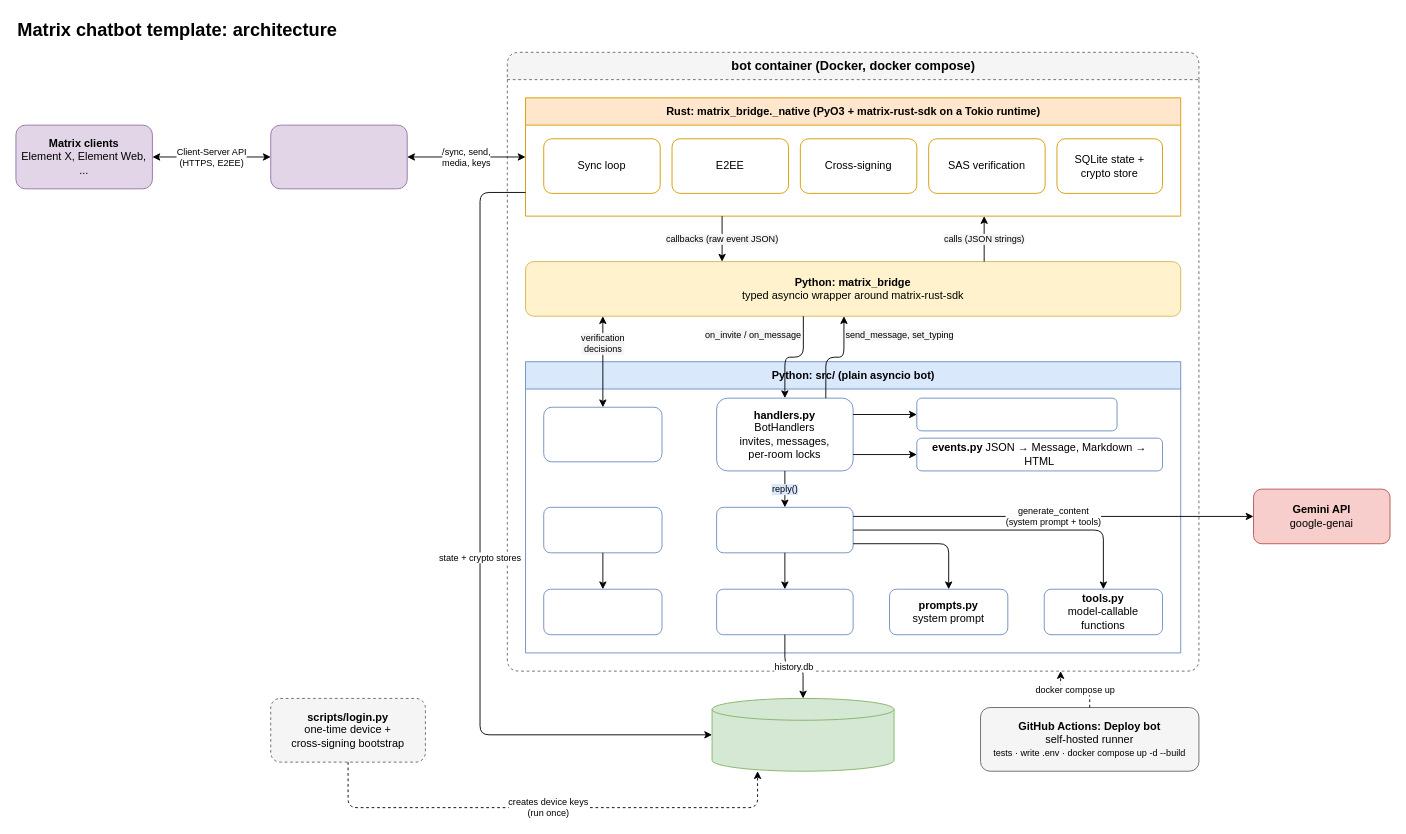
The diagram is 1406 pixels wide and 834 high, and some of its shapes have lost their labels. Here are the shapes that lost their labels. From the top down, the centre of each, then its label:
At point 338,156: "Homeserver matrix.org, Synapse, ...".
At point 602,434: "verification.py VerificationPolicy".
At point 1016,414: "commands.py !help !ping !reset".
At point 602,529: "main.py wiring + sync loop".
At point 784,529: "llm.py Responder".
At point 602,611: "config.py env variables".
At point 784,611: "history.py per-room history".
At point 802,734: "bot-store volume /data/store matrix-sdk stores · history.db".
